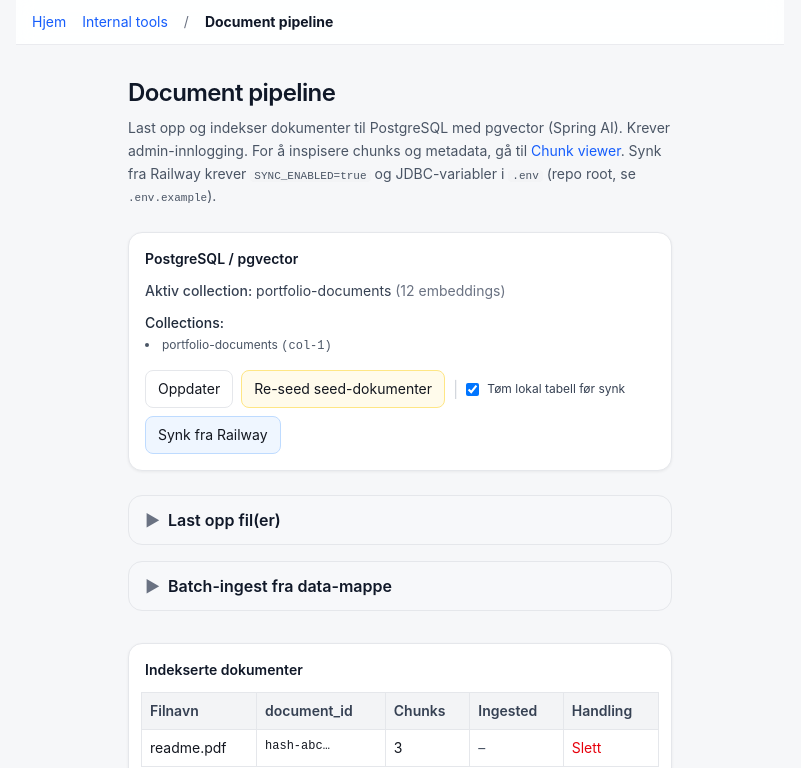
Admin CRUD views (integration-style) › AdminPipelineView syncs from Railway when confirmed
This screenshot has width=801, height=768.
Click the button "Synk fra Railway" at (213, 435), box [145,416,281,454]
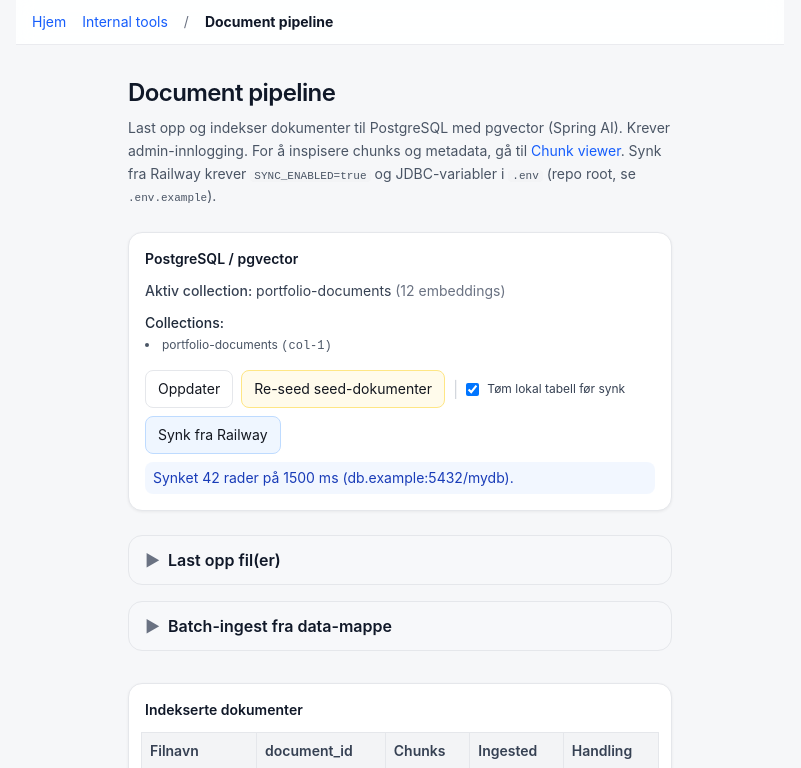
Now the text "Synket 42 rader" is shown, box [153,469,514,486]
Now the text "db.example:5432/mydb" is shown, box [153,469,514,486]
